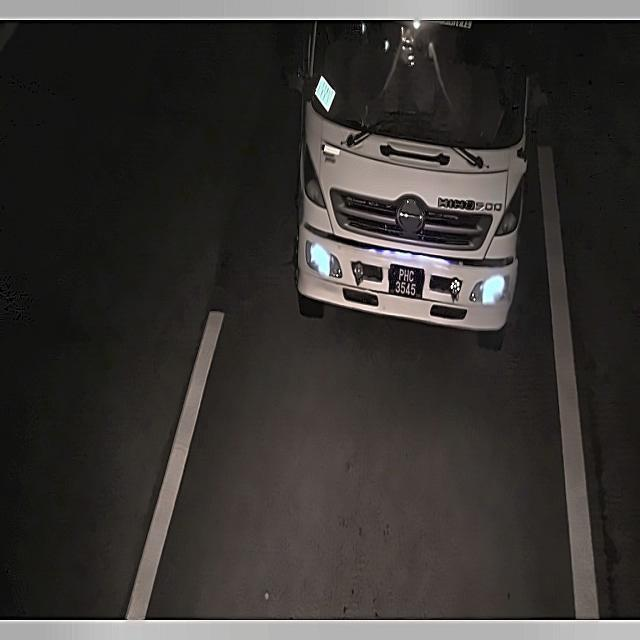car: (390, 262, 420, 301)
